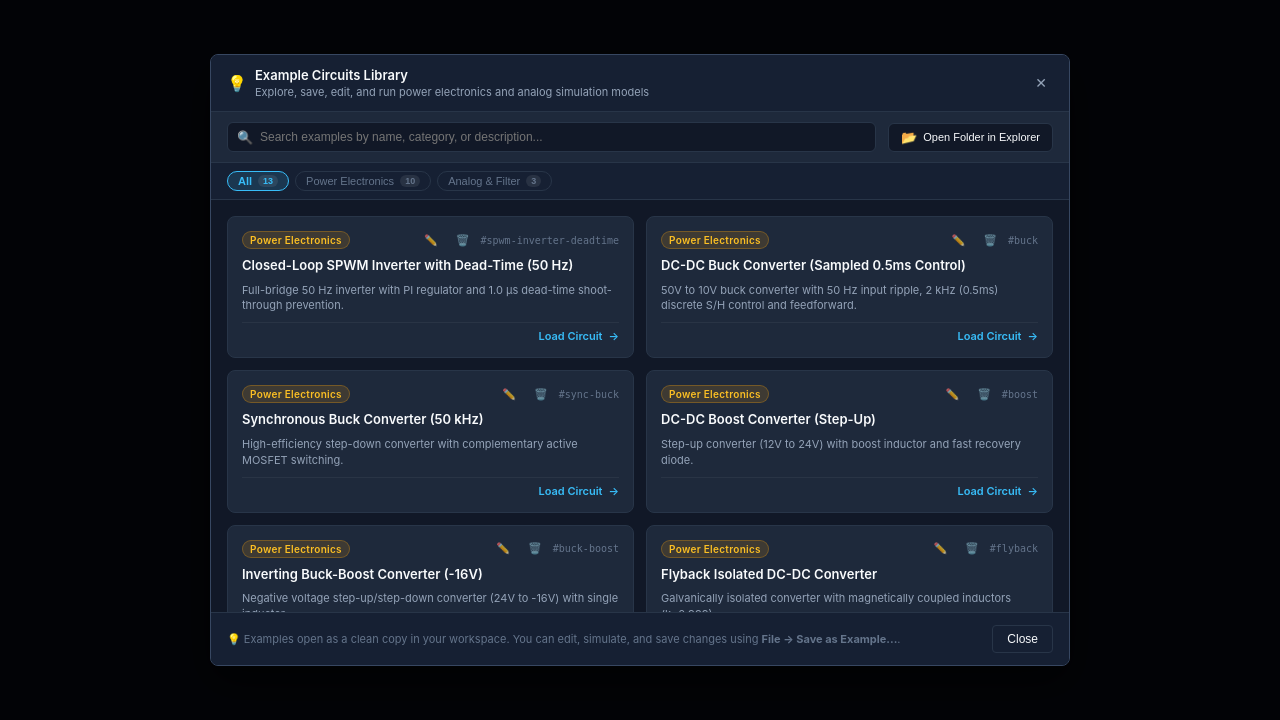
Scenario: ExamplesModal Component › filters examples by category selection
Click the button with class "category-pill" showing "Analog & Filter 3".
click(495, 181)  # box 437,171 -> 552,191
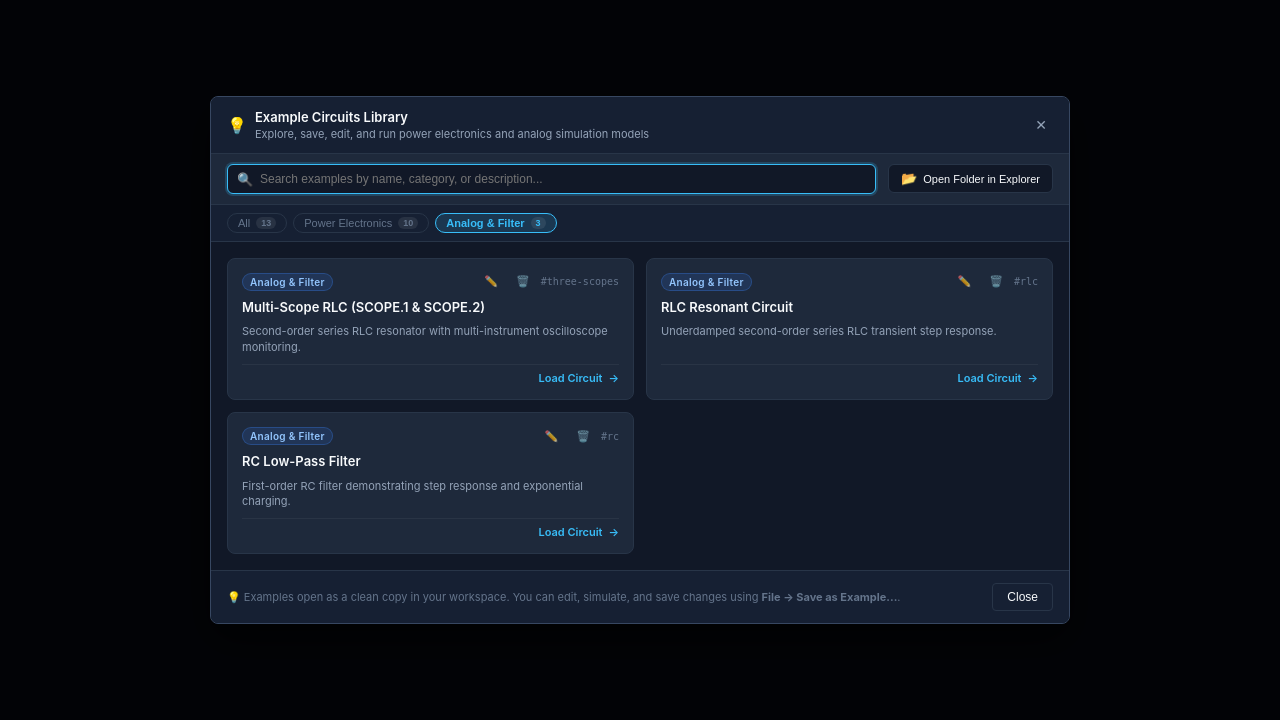
Now the heading "RC Low-Pass Filter" is shown, box 242,453 -> 361,469
Now the heading "RLC Resonant Circuit" is shown, box 661,299 -> 793,315
Now the button "DC-DC Buck Converter (Sampled 0.5ms Control)" is gone
